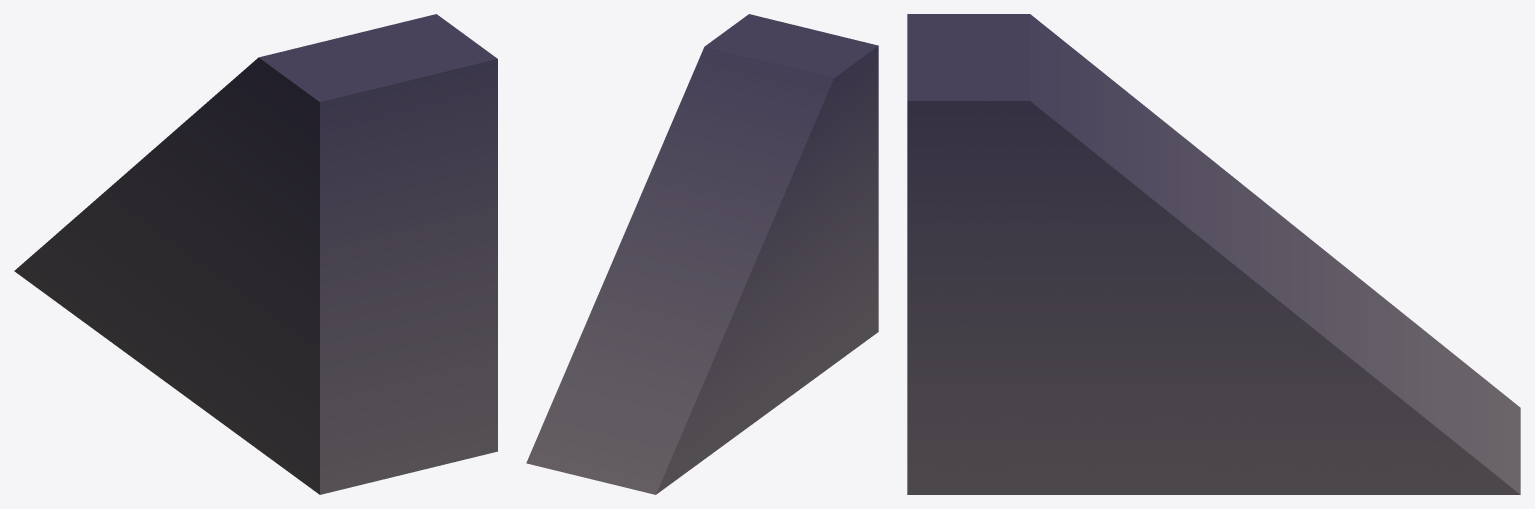
File: PR_RampSharp.fbx
3 renders of one model, left to right at view 1: azimuth 30°, elevation 25°; view 2: azimuth 150°, elevation 25°; view 3: azimuth 270°, elevation 25°, orthographic. The views are drawn at different scales.
Visible parts, largest first — view 1: PR_RampSharp; view 2: PR_RampSharp; view 3: PR_RampSharp.
Boxes of the visible parts, x1,y1,x2,y2 form: PR_RampSharp: (14,14,497,494); PR_RampSharp: (526,14,878,494); PR_RampSharp: (907,14,1520,494).
Size of the model in its own units: 154 by 324 by 458.
1 material, 1 textured.
